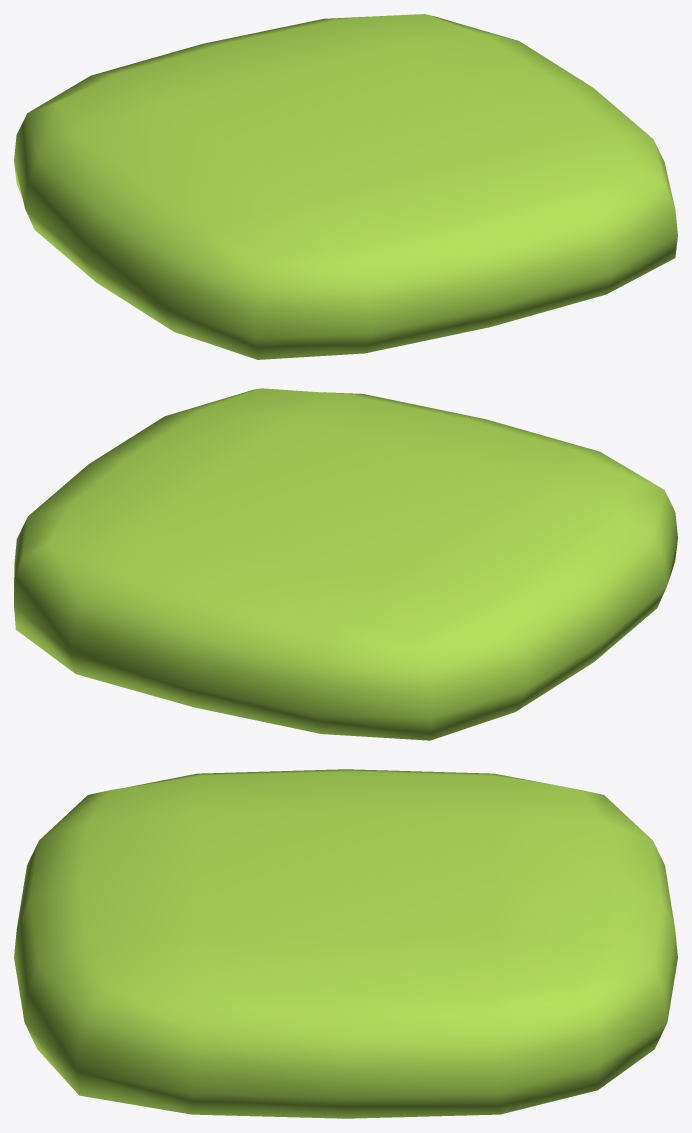
Rendered from Green_Ground2.fbx.
The picture shows the model from 3 angles, top to bottom: view 1: azimuth 30°, elevation 25°; view 2: azimuth 150°, elevation 25°; view 3: azimuth 270°, elevation 25°; orthographic projection. The views are drawn at different scales.
Parts seen in each view (by area): view 1: Cube.042; view 2: Cube.042; view 3: Cube.042.
Boxes of the visible parts, x1,y1,x2,y2 form: Cube.042: (14,14,677,359); Cube.042: (14,388,677,740); Cube.042: (14,769,677,1118).
Bounding box in the file's own units: 4.67 × 4.67 × 0.881.
